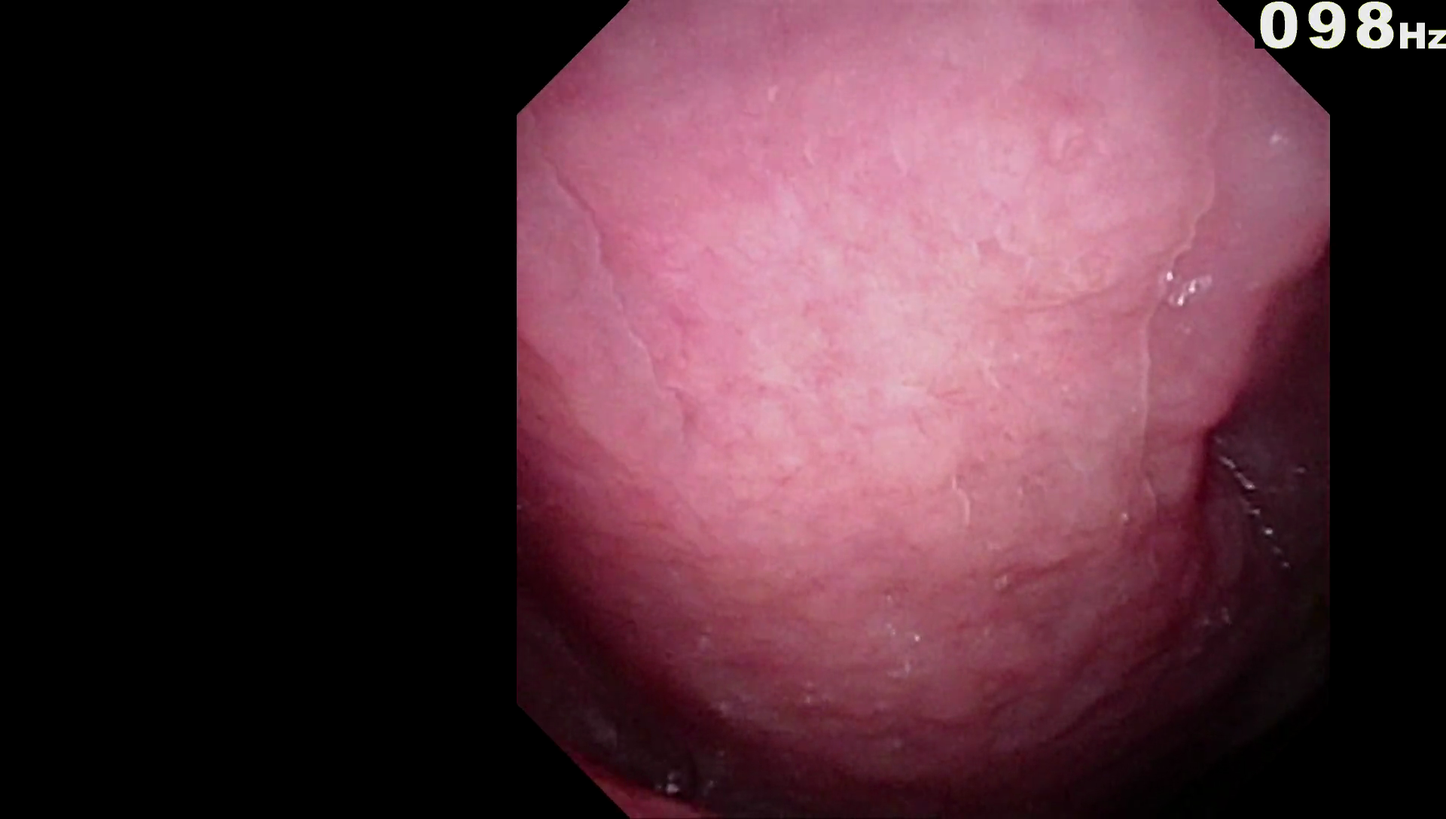close_wall: (562, 72, 1247, 593)
next: (1046, 575, 1303, 808)
